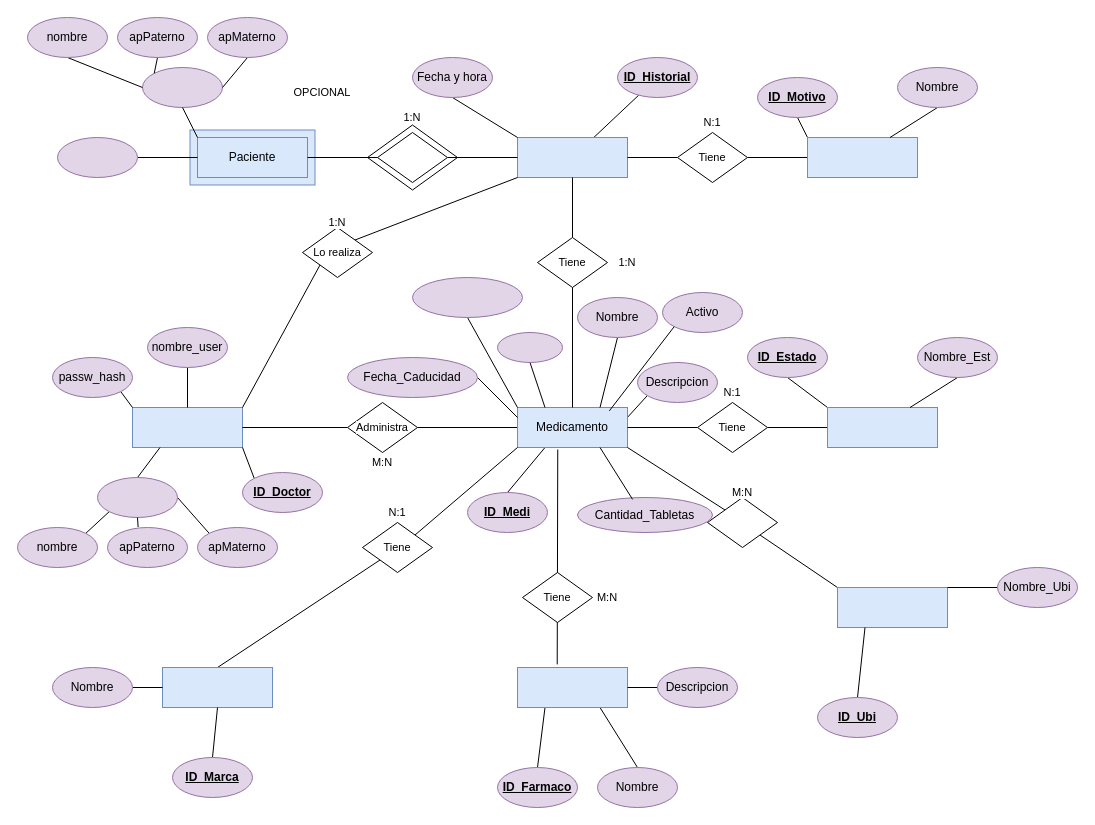
Some shapes in this 1095 by 825 pixel diagram are drawn without their labels. Here are the shapes that lost their labels. From the top down, the centre of each, then its label:
At pixel 182 87: "NomComp".
At pixel 97 157: "ID_Paciente".
At pixel 412 157: "Aparece".
At pixel 572 157: "Log_Historial".
At pixel 862 157: "Motivo".
At pixel 467 297: "Cantidad_restante".
At pixel 529 347: "URL_Foto".
At pixel 187 427: "Doctor".
At pixel 882 427: "Estado".
At pixel 137 497: "NombreComp".
At pixel 742 522: "Esta".
At pixel 892 607: "Ubicación".
At pixel 217 687: "Marca".
At pixel 572 687: "Fármaco".
